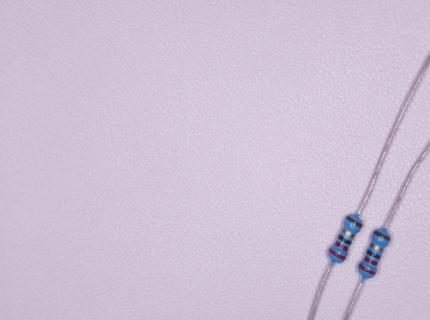Black band: (337, 234, 352, 246), (366, 249, 381, 260)
Brown band: (345, 215, 363, 228), (373, 230, 391, 242)
Gold band: (369, 243, 384, 253), (341, 228, 355, 238)
Red band: (328, 248, 346, 261), (358, 263, 376, 276), (334, 240, 349, 253), (363, 256, 379, 267)
